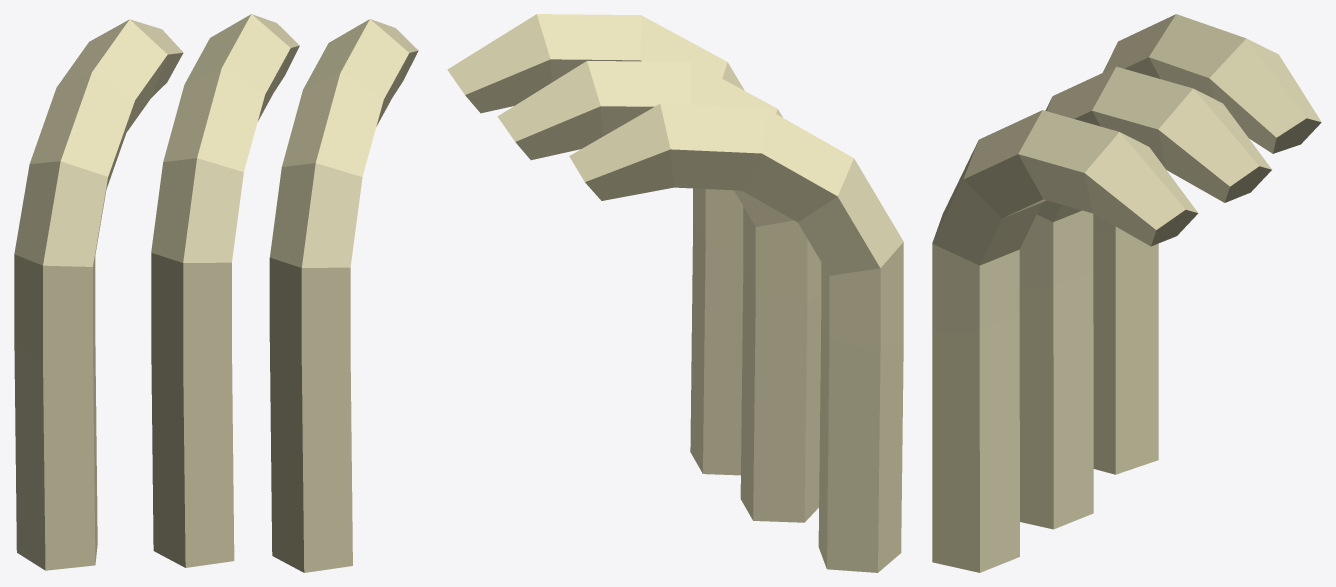
The model's file is ribs.fbx.
The picture shows the model from 3 angles, left to right: view 1: azimuth 30°, elevation 25°; view 2: azimuth 150°, elevation 25°; view 3: azimuth 270°, elevation 25°; orthographic projection. The views are drawn at different scales.
Visible parts, largest first — view 1: Ribs; view 2: Ribs; view 3: Ribs.
Part boxes in pixels (<box>): Ribs: <box>14,14,418,572</box>; Ribs: <box>447,14,903,572</box>; Ribs: <box>932,14,1321,572</box>.
Size of the model in its own units: 269 by 285 by 207.
